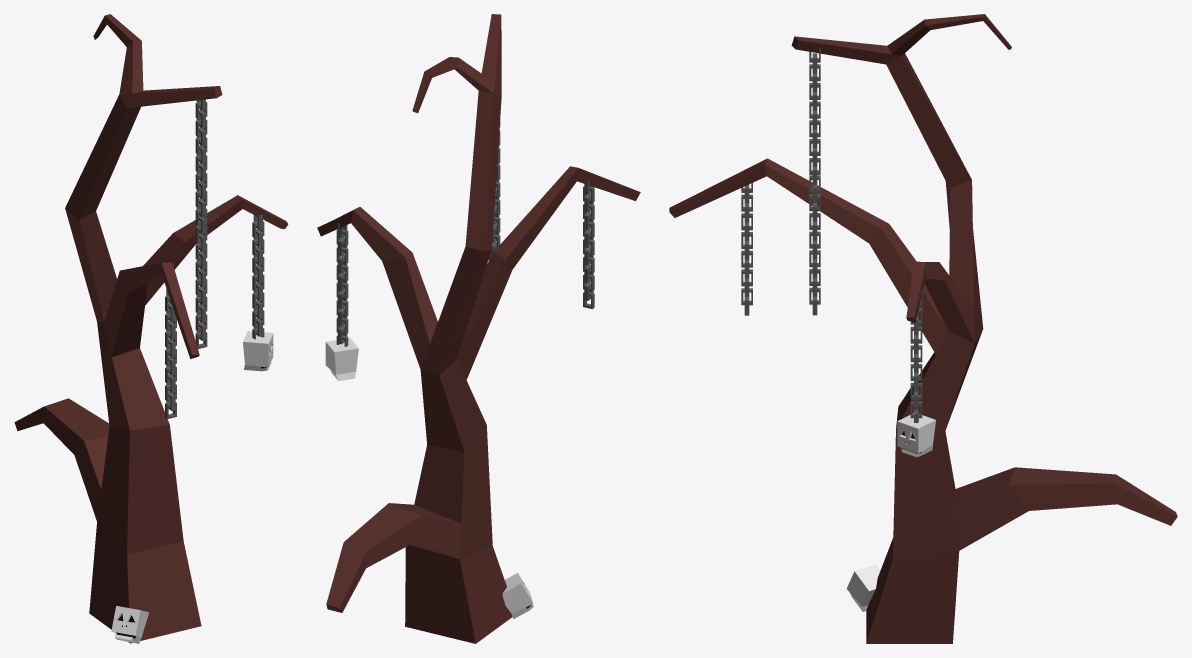
The model's file is hell_tree_1.fbx.
3 renders of one model, left to right at view 1: azimuth 30°, elevation 25°; view 2: azimuth 150°, elevation 25°; view 3: azimuth 270°, elevation 25°, orthographic. The views are drawn at different scales.
Visible parts, largest first — view 1: hell_tree_1_LOD0; view 2: hell_tree_1_LOD0; view 3: hell_tree_1_LOD0.
Boxes of the visible parts, x1,y1,x2,y2 form: hell_tree_1_LOD0: [14, 14, 288, 643]; hell_tree_1_LOD0: [317, 14, 640, 643]; hell_tree_1_LOD0: [669, 14, 1177, 643].
Size of what is drawn, in the model's own units: 5.9 by 11.76 by 15.58.
